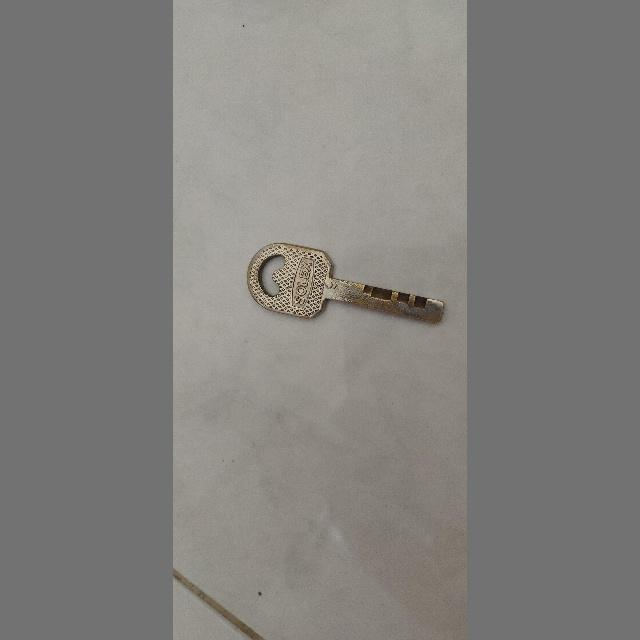Keys: (238, 226, 457, 344)
